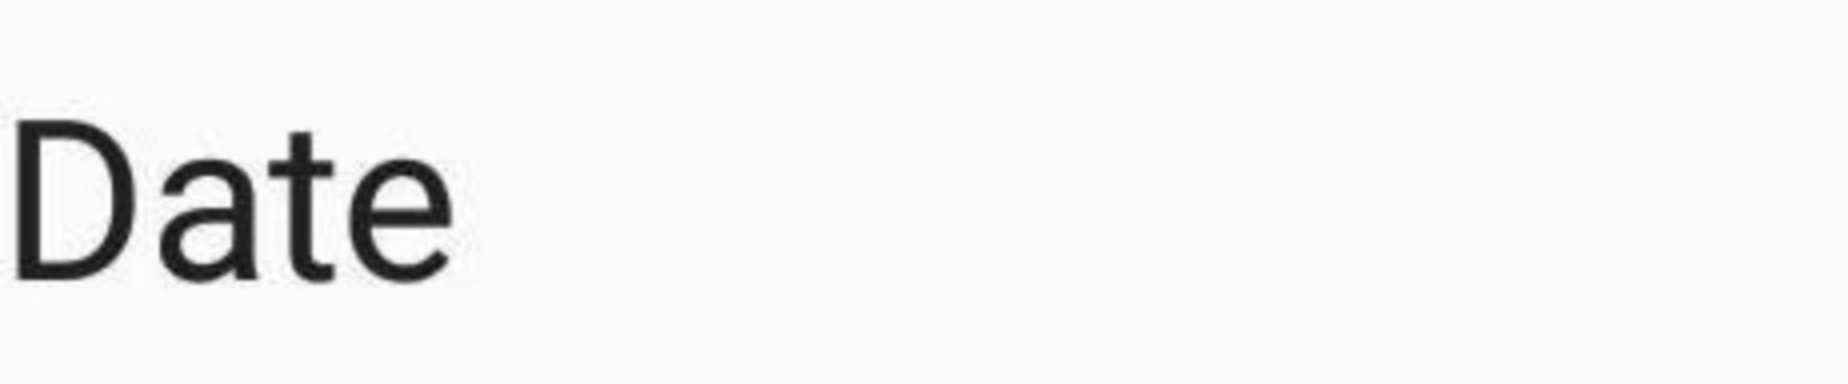TextView: (1, 1, 1847, 383)
